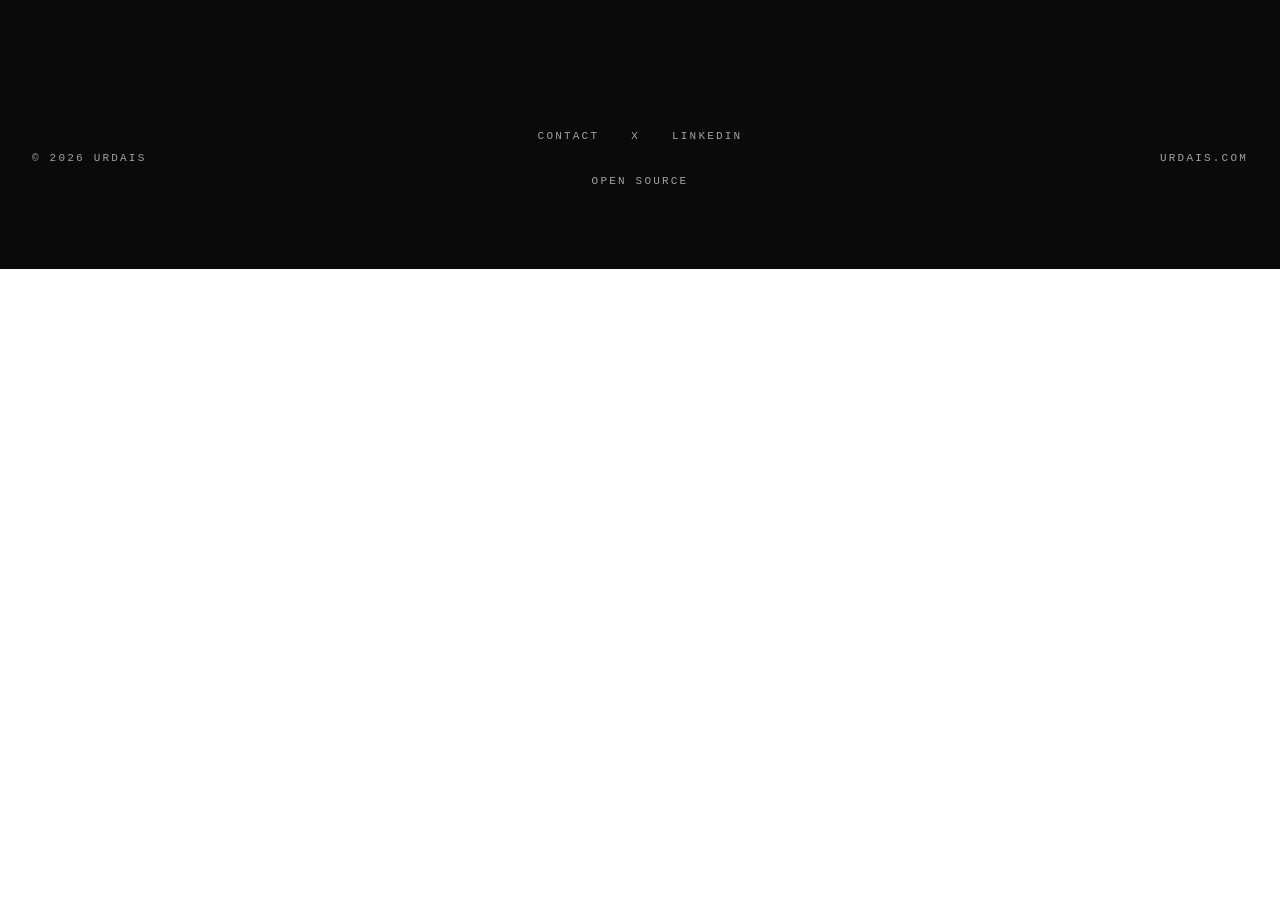
it: ContactModal submission › shows a generic error and keeps the draft on a delivery failure
Click the button "Contact" at (568, 136), box x1=538 y1=128 x2=599 y2=144
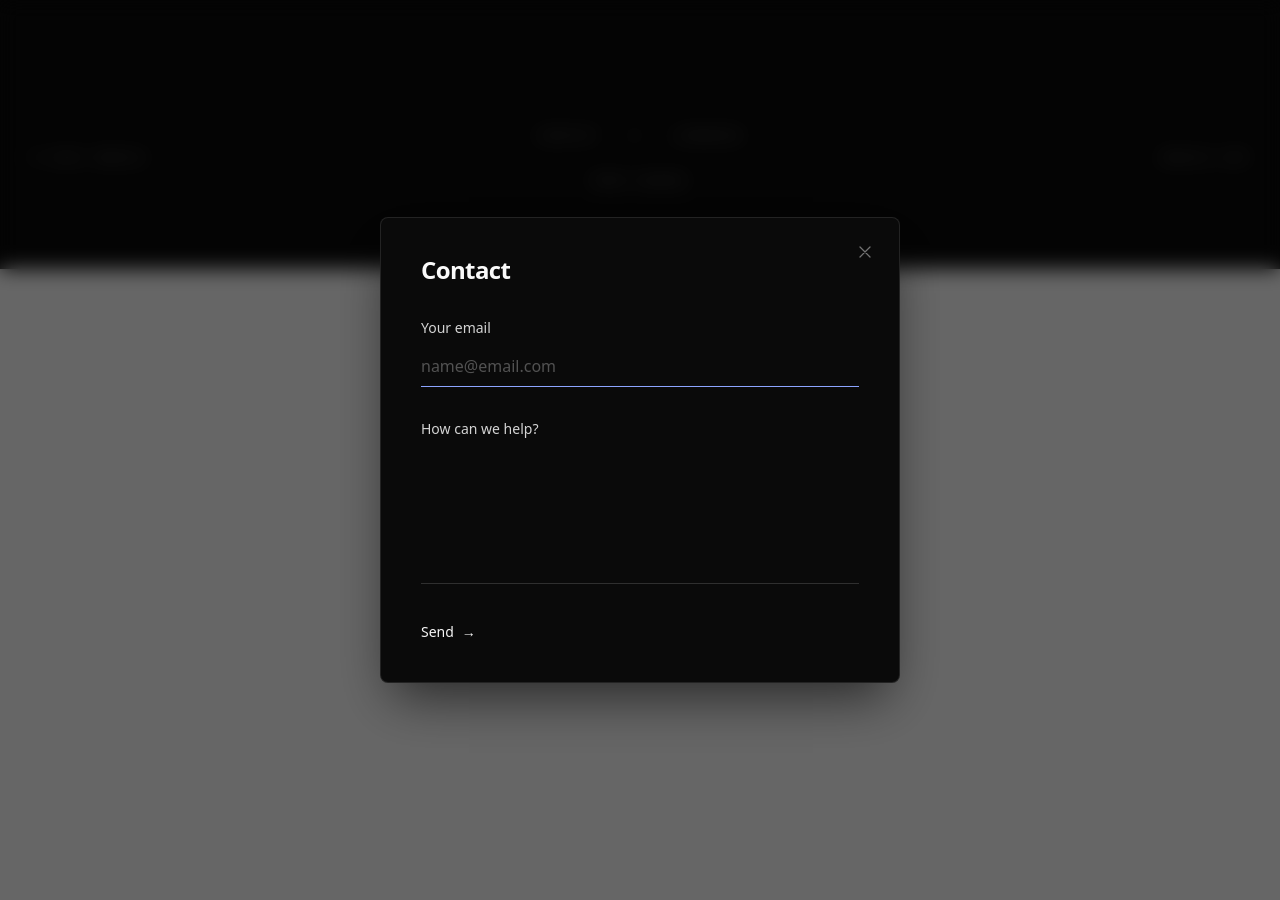
Type "reader@example.com" into the field labelled "Your email" at (640, 366), box x1=421 y1=346 x2=859 y2=387
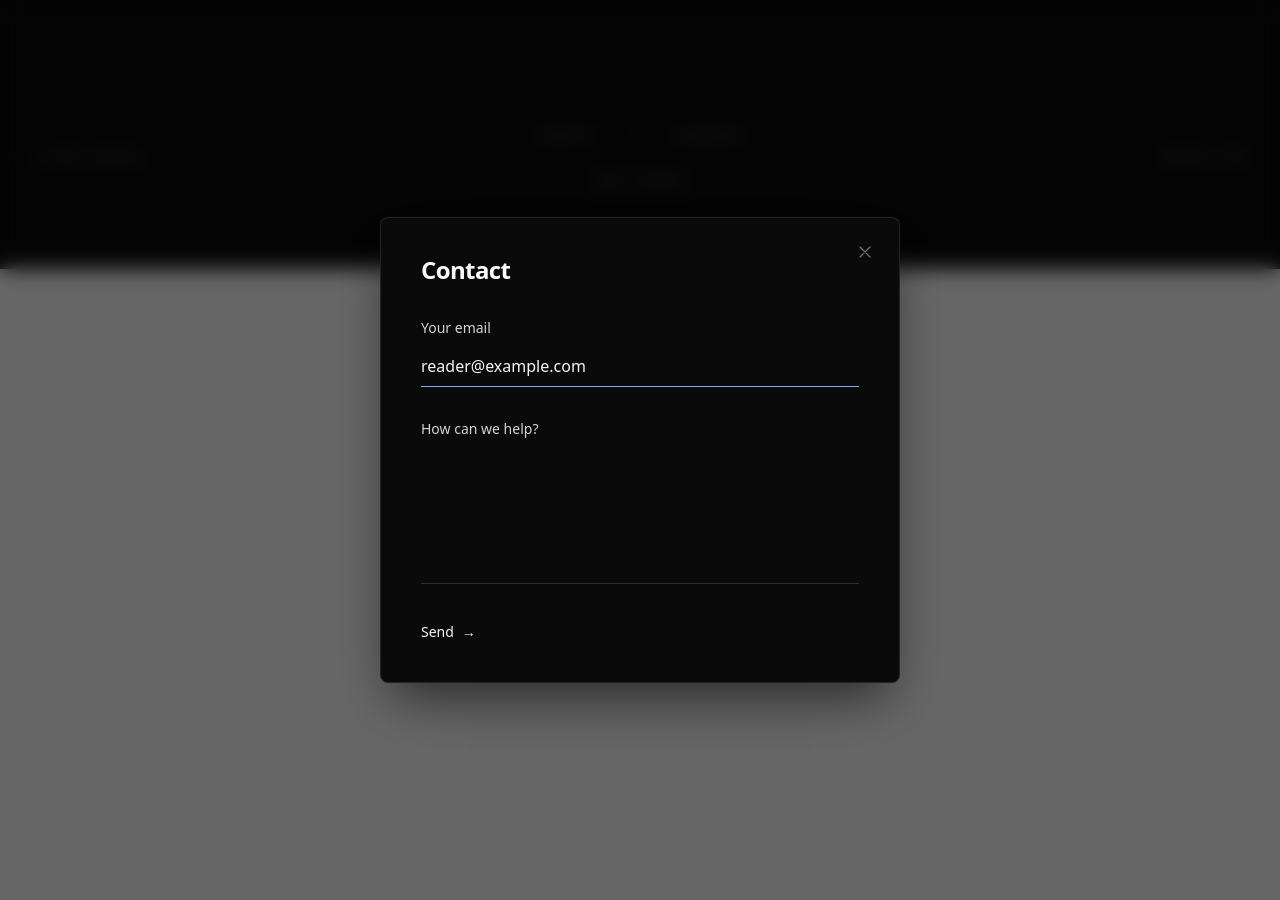
Type "Hello." into the text box labelled "How can we help?" at (640, 516), box x1=421 y1=447 x2=859 y2=584
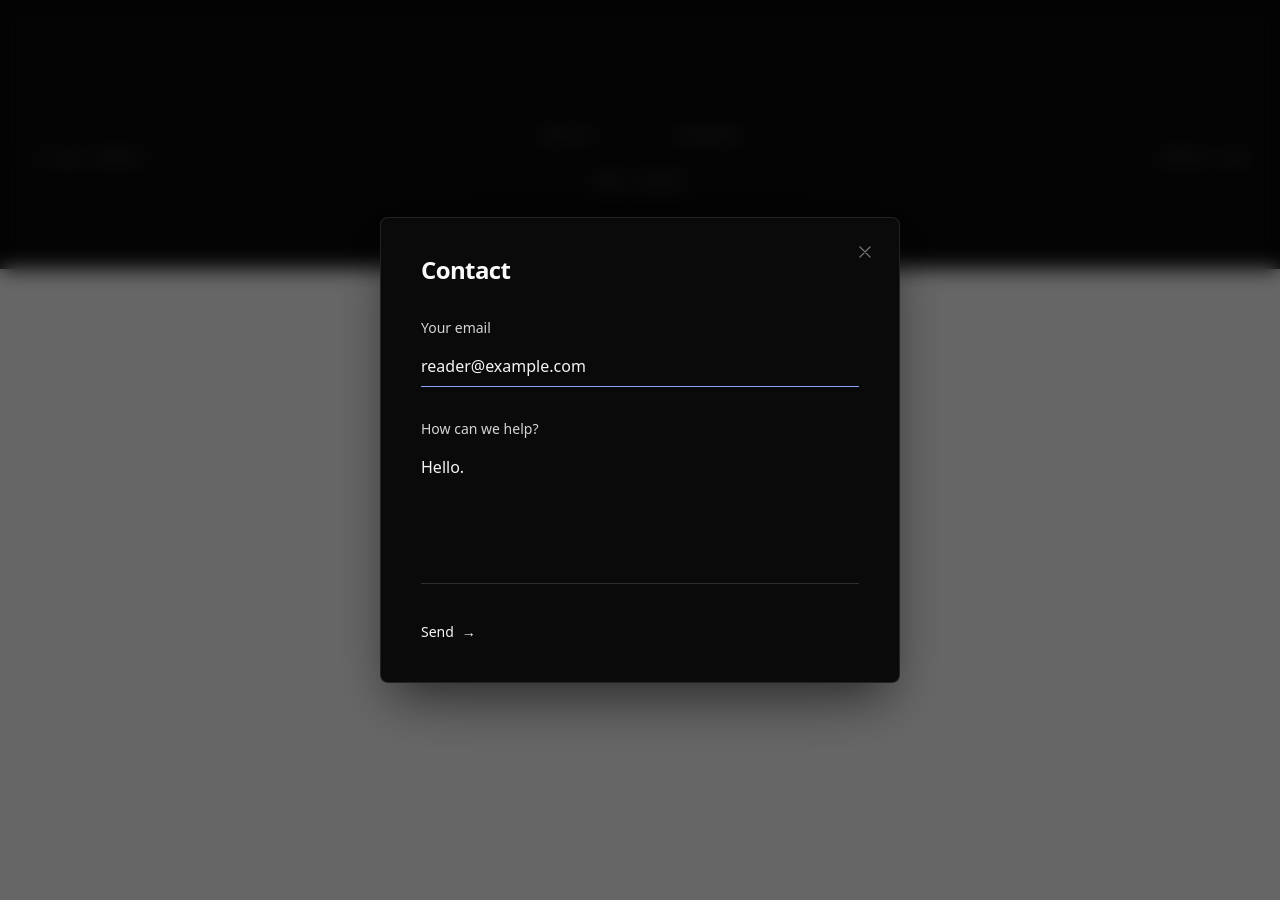
Click the button "Send →" at (448, 632), box x1=421 y1=622 x2=476 y2=642
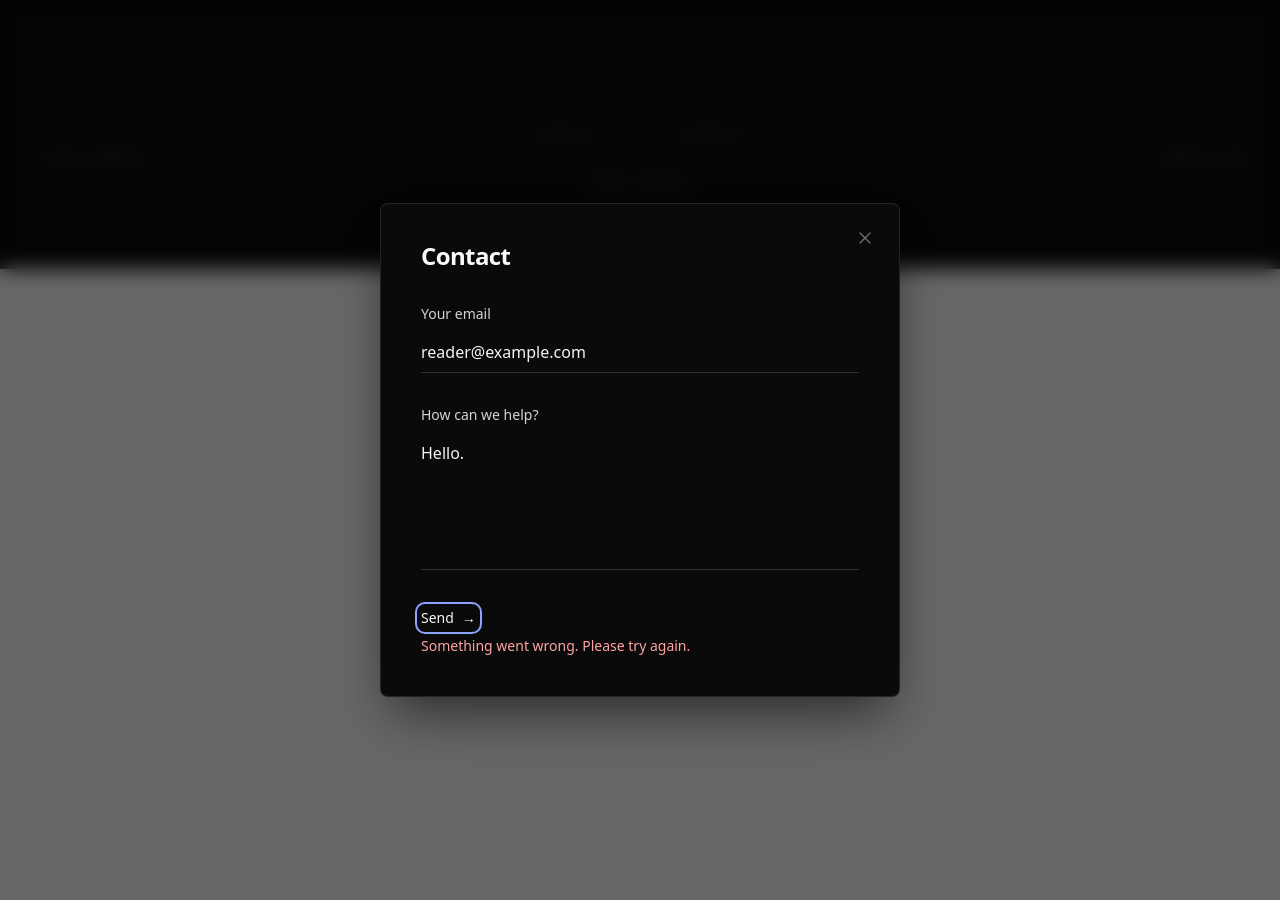
Check: the button "Send →" is enabled, box x1=421 y1=608 x2=476 y2=628
Check: the message reads "Something went wrong. Please try again.", box x1=421 y1=636 x2=690 y2=655
